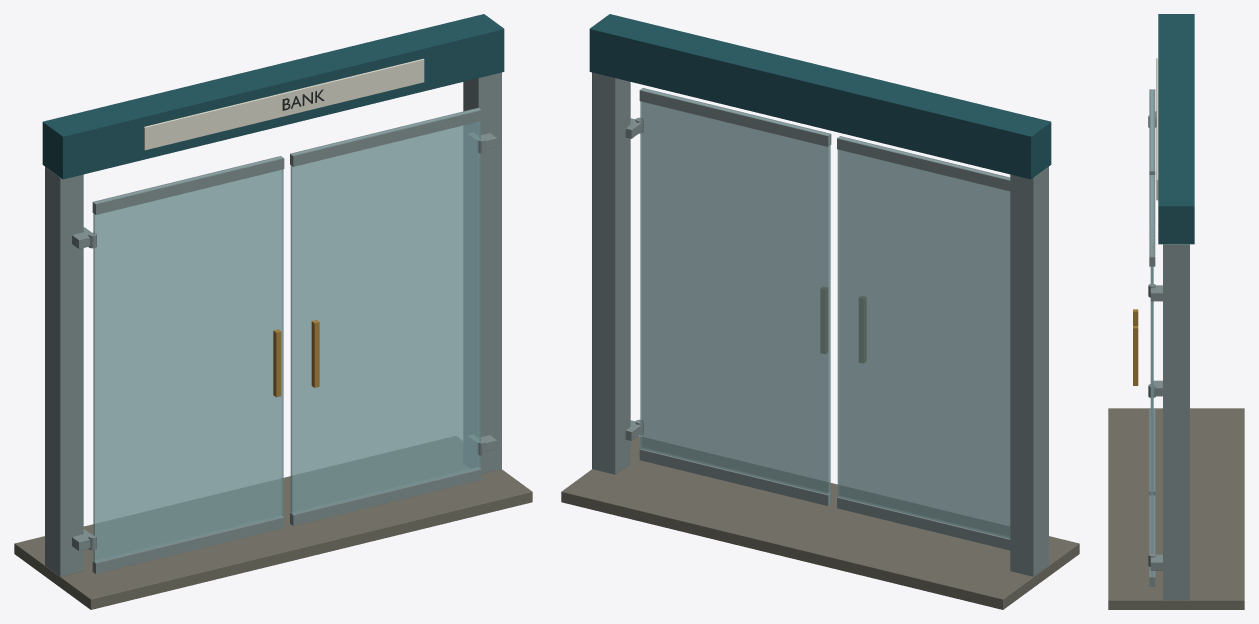
File: source-edit.glb
3 views of the same model, side by side, from view 1: azimuth 30°, elevation 25°; view 2: azimuth 150°, elevation 25°; view 3: azimuth 270°, elevation 25° (orthographic). The views are drawn at different scales.
Parts seen in each view (by area): view 1: Leaf.001, Leaf, Threshold, Header, Frame_Jamb, Frame_Jamb.001, Replaceable_Branch_Sign, Door_Rail.001, Door_Rail.003, Door_Rail, Door_Rail.002; view 2: Leaf.001, Leaf, Threshold, Header, Frame_Jamb, Frame_Jamb.001, Door_Rail.003, Door_Rail.002, Door_Rail.001, Door_Rail; view 3: Threshold, Frame_Jamb.001, Header, Leaf.001, Door_Rail.003, Door_Rail.001, Door_Rail.002, Door_Rail, Replaceable_Branch_Sign, Handle.001, Leaf.
Boxes of the visible parts, x1,y1,x2,y2 form: Leaf.001: (290,108,480,524); Leaf: (93,156,283,562); Threshold: (14,436,532,609); Header: (42,14,504,179); Frame_Jamb: (45,167,83,576); Frame_Jamb.001: (463,72,501,473); Replaceable_Branch_Sign: (144,58,424,150); Door_Rail.001: (92,156,284,214); Door_Rail.003: (290,108,481,166); Door_Rail: (92,515,284,573); Door_Rail.002: (290,467,481,525); Leaf.001: (640,88,830,504); Leaf: (837,136,1010,538); Threshold: (561,436,1079,609); Header: (589,14,1051,179); Frame_Jamb: (1010,167,1048,576); Frame_Jamb.001: (592,72,630,474); Door_Rail.003: (639,88,831,146); Door_Rail.002: (639,447,831,505); Door_Rail.001: (837,136,1010,191); Door_Rail: (837,495,1010,550); Threshold: (1108,408,1244,609); Frame_Jamb.001: (1163,244,1189,600); Header: (1158,14,1194,244); Leaf.001: (1150,175,1153,577); Door_Rail.003: (1149,175,1155,266); Door_Rail.001: (1149,89,1155,174); Door_Rail.002: (1149,495,1155,586); Door_Rail: (1149,409,1155,495); Replaceable_Branch_Sign: (1156,58,1158,200); Handle.001: (1133,326,1138,385); Leaf: (1150,89,1153,174).
Bounding box in the file's own units: 3 × 2.94 × 0.9.
